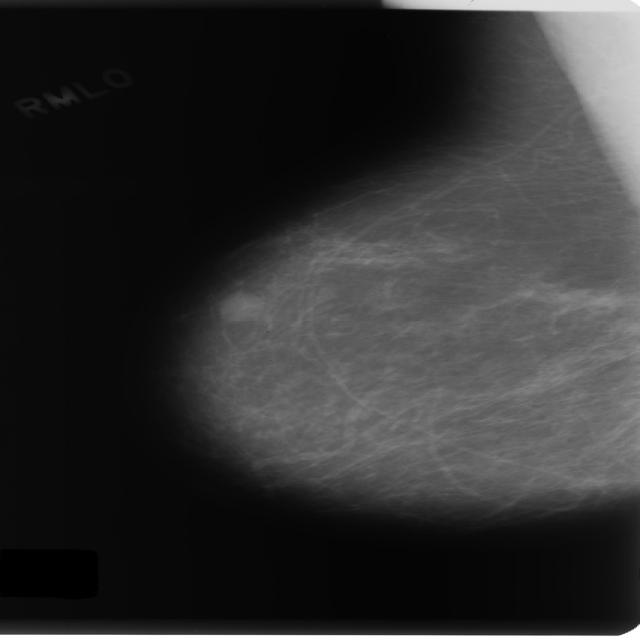tumour: (216, 291, 264, 321)
